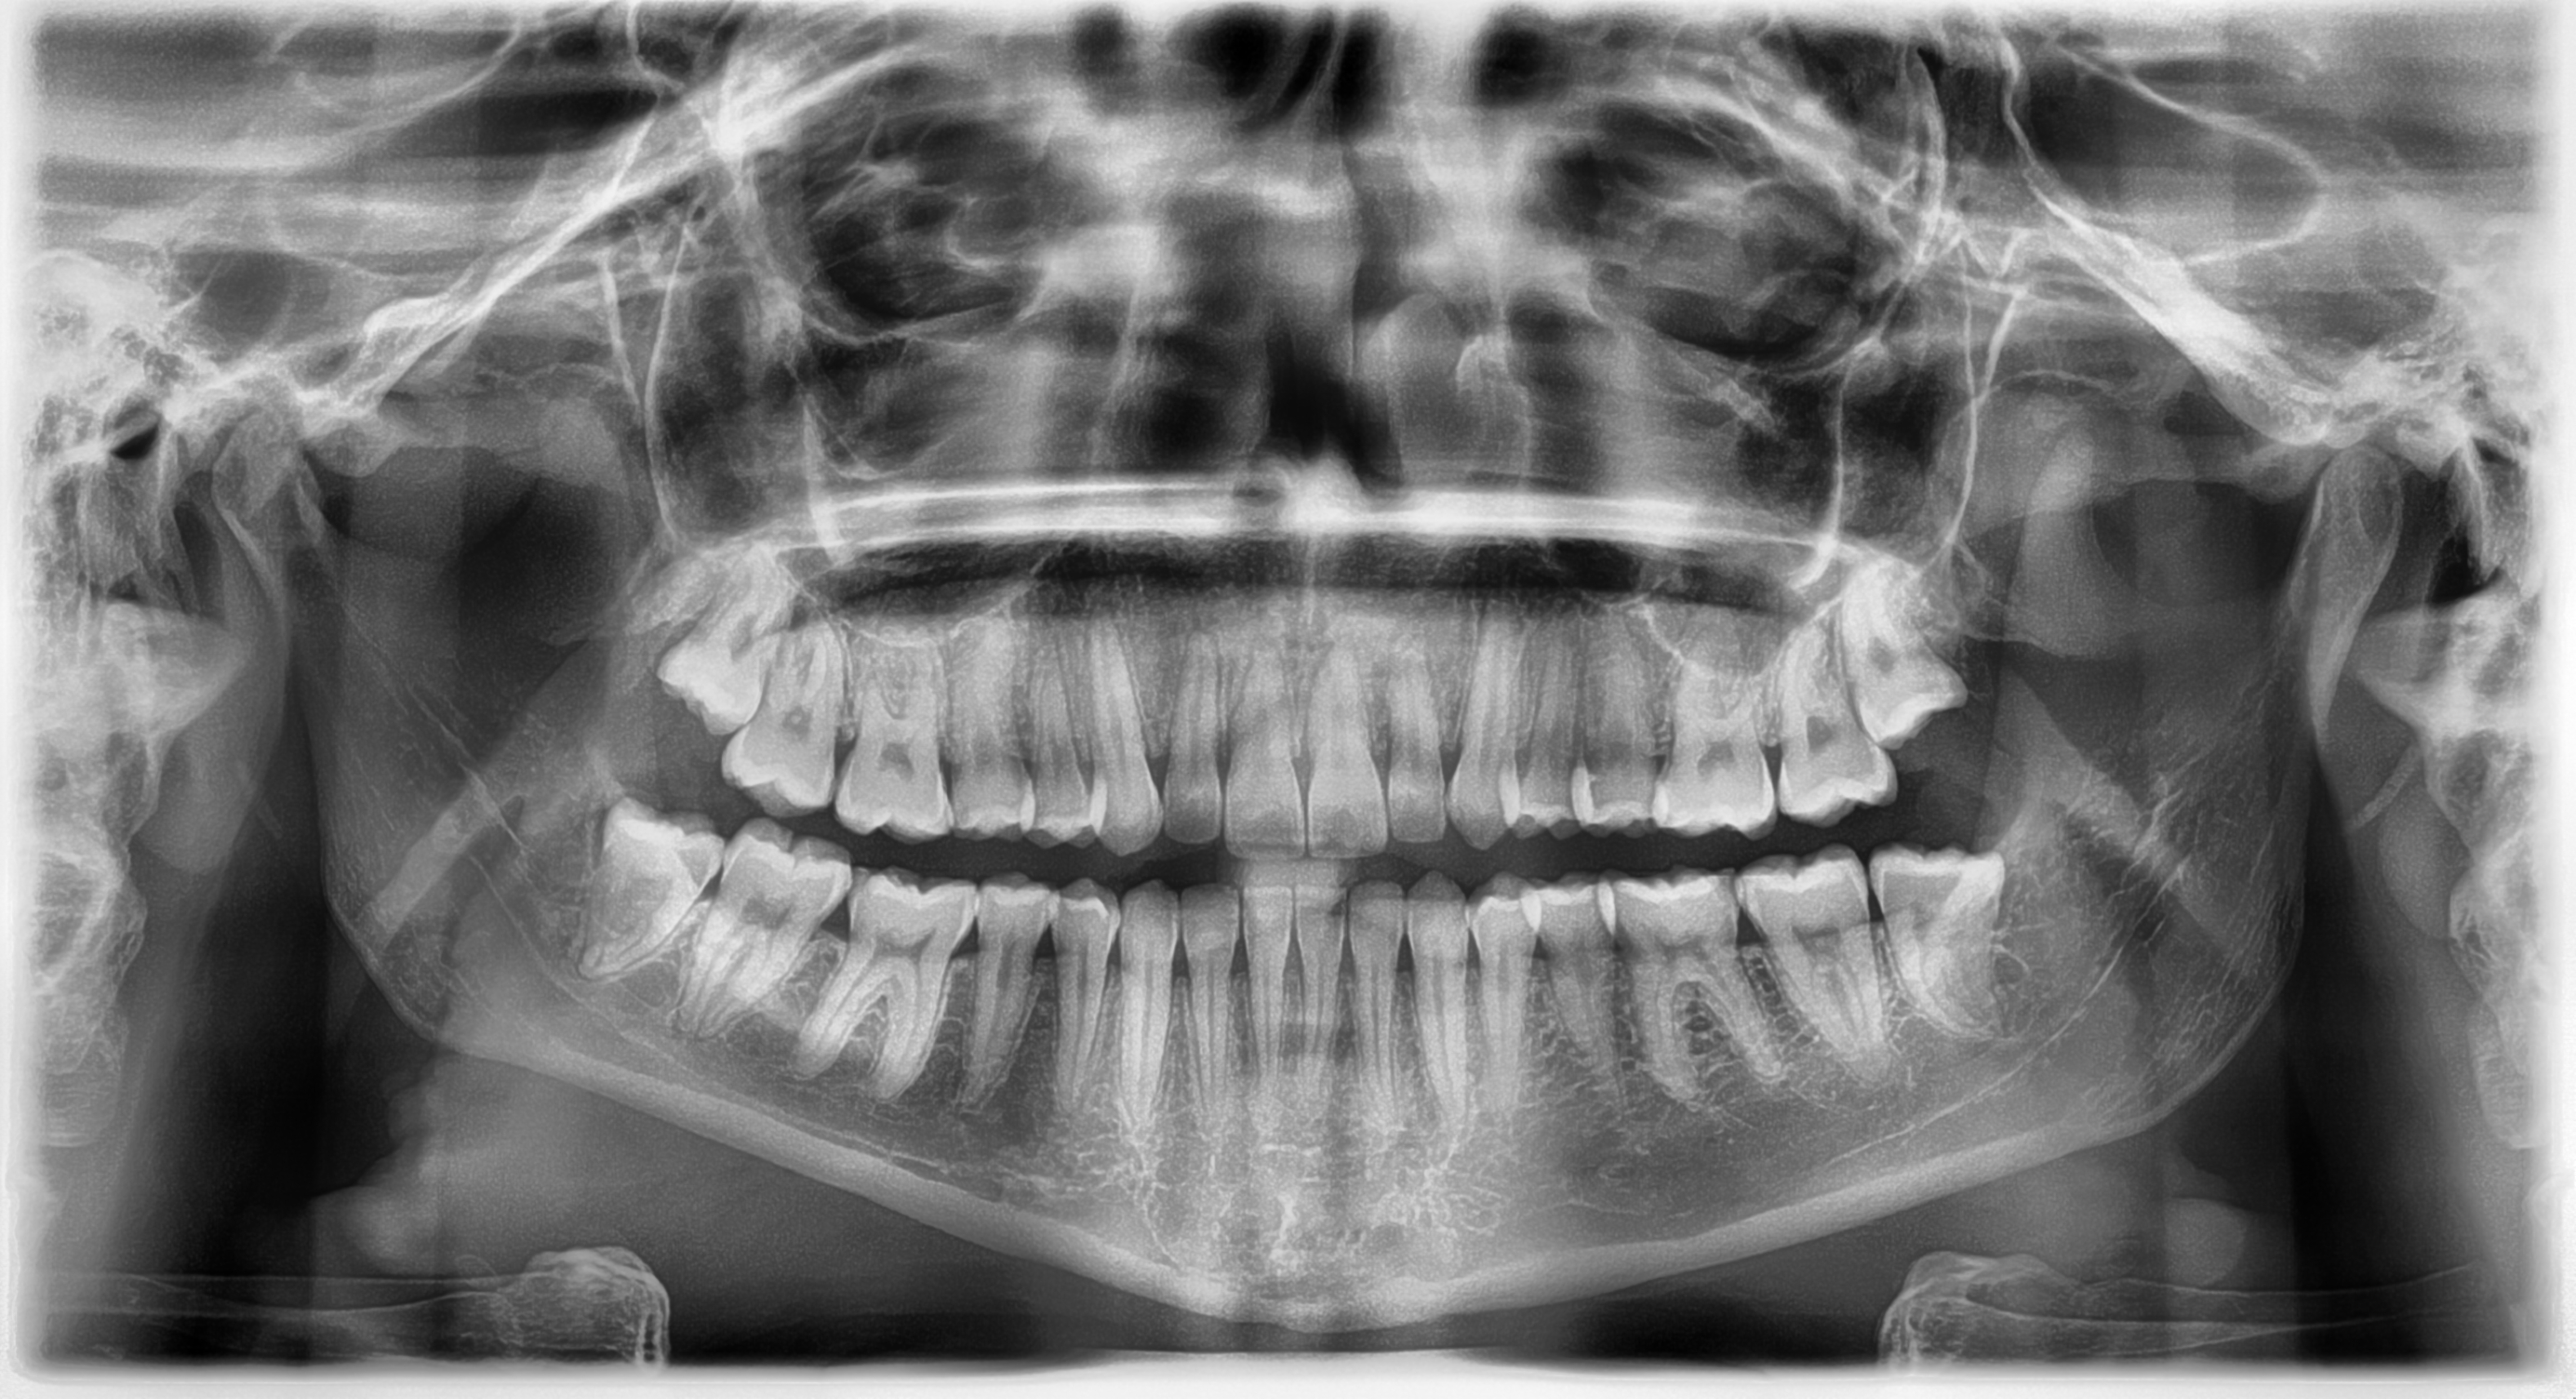tratamiento_conducto: (557, 767, 743, 1017), (1849, 808, 2035, 1058), (1813, 524, 1999, 774), (632, 496, 818, 744)
